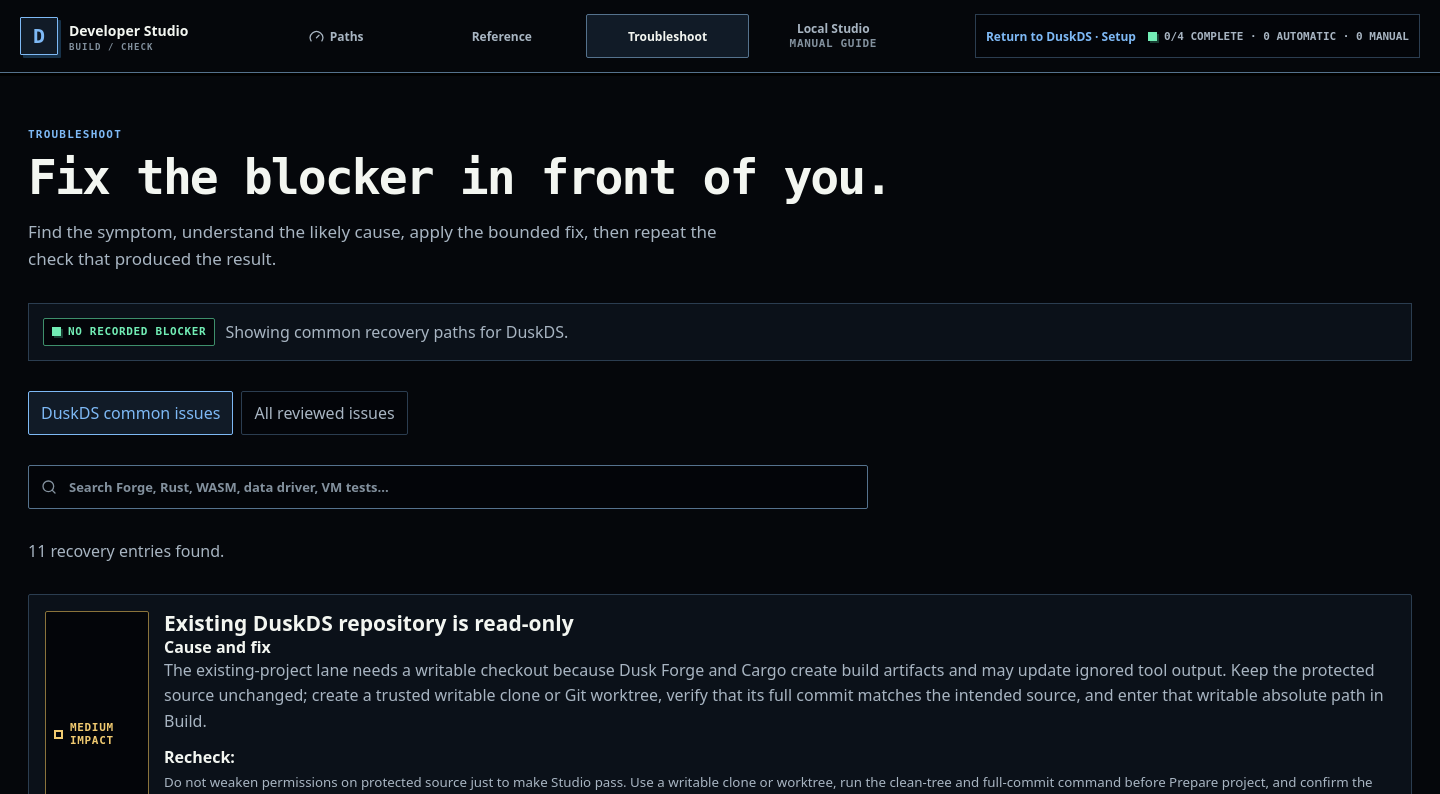
Phase 3 interaction semantics › returns focus to Troubleshooting search after clearing an empty result
In the field with placeholder "Search Forge, Rust, WASM, data driver, VM tests...": (448, 487) [28,465,868,509], type "zzzz-no-such-fix"
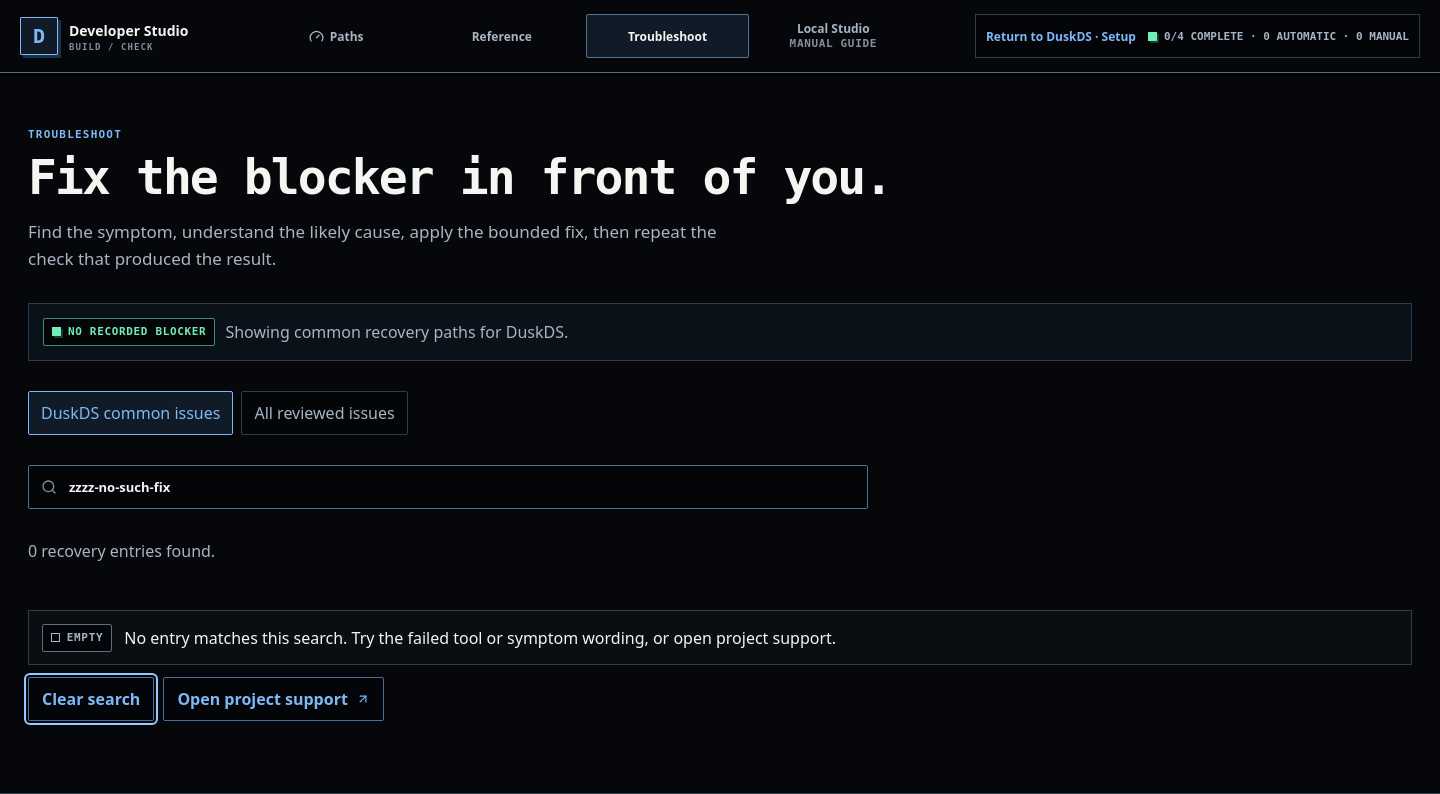
Result: the text "0 recovery entries found." is shown at [28,540,215,562]
Click the button "Clear search": (91, 700) [28,678,154,722]
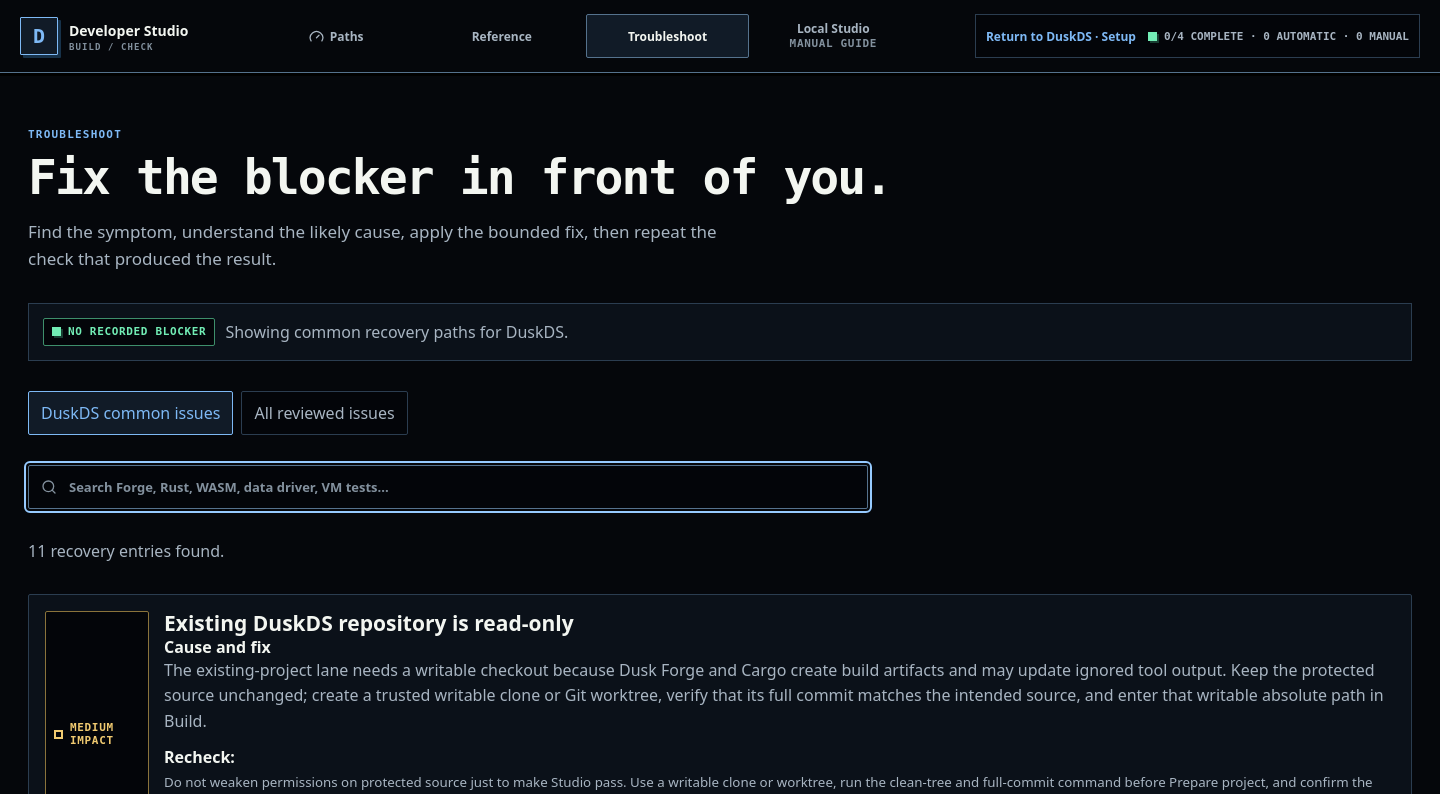
Expected: the text "11 recovery entries found." is shown, [28,540,224,562]
Result: the field with placeholder "Search Forge, Rust, WASM, data driver, VM tests..." is empty at [28,465,868,509]
